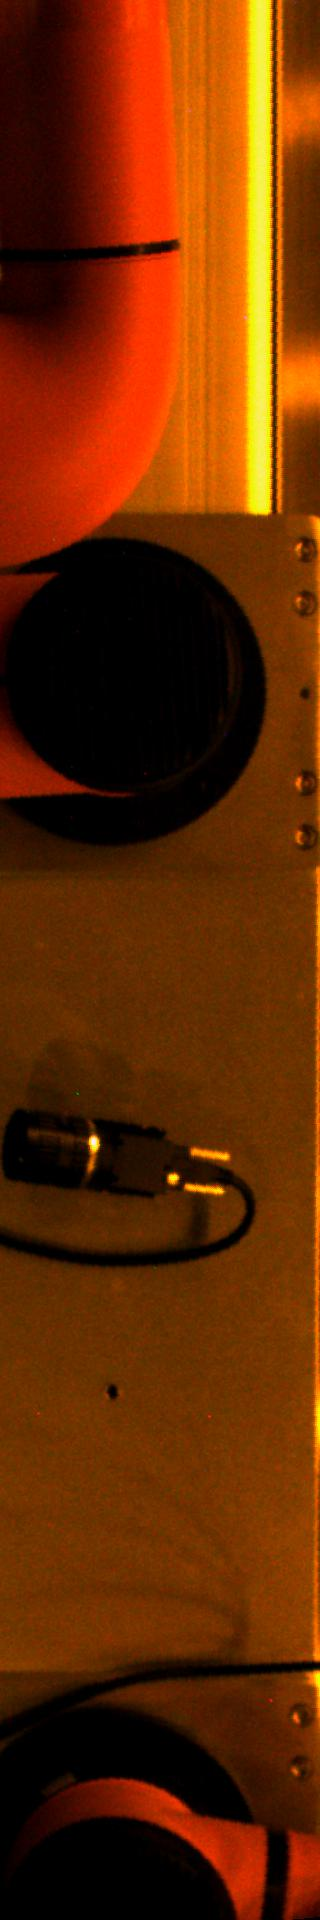keyPoint_2: (97, 1376, 128, 1406)
